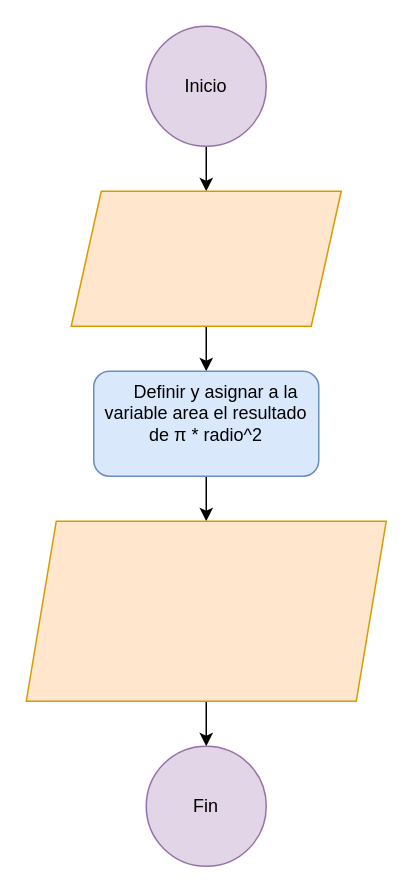
This 413x893 diagram has some shape labels left out. The shapes that lost their labels are listed below. From the top down, each one's centre as x and y in pixels, then its label:
point 205,258: Mostrar mensaje: "Por favor, ingrese el radio del círculo: "
point 205,610: Mostrar mensaje: "El área del círculo con radio", radio, "es:", area
